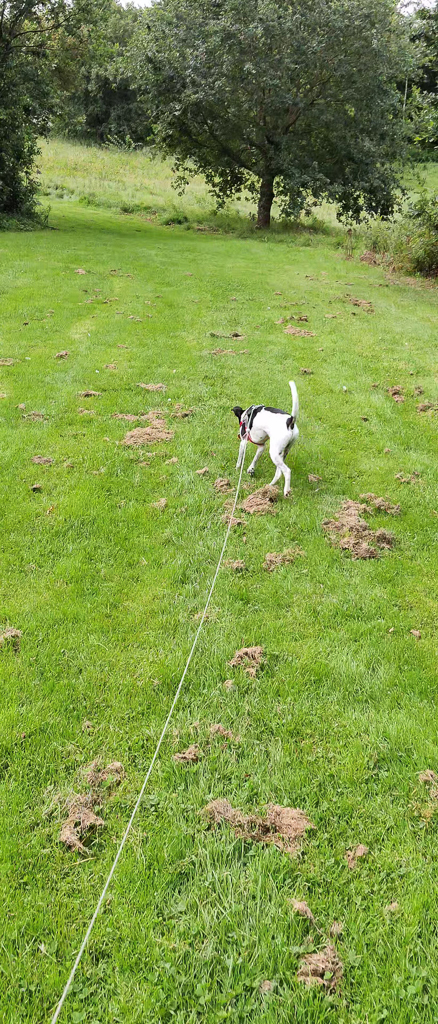Dog: (225, 369, 317, 509)
